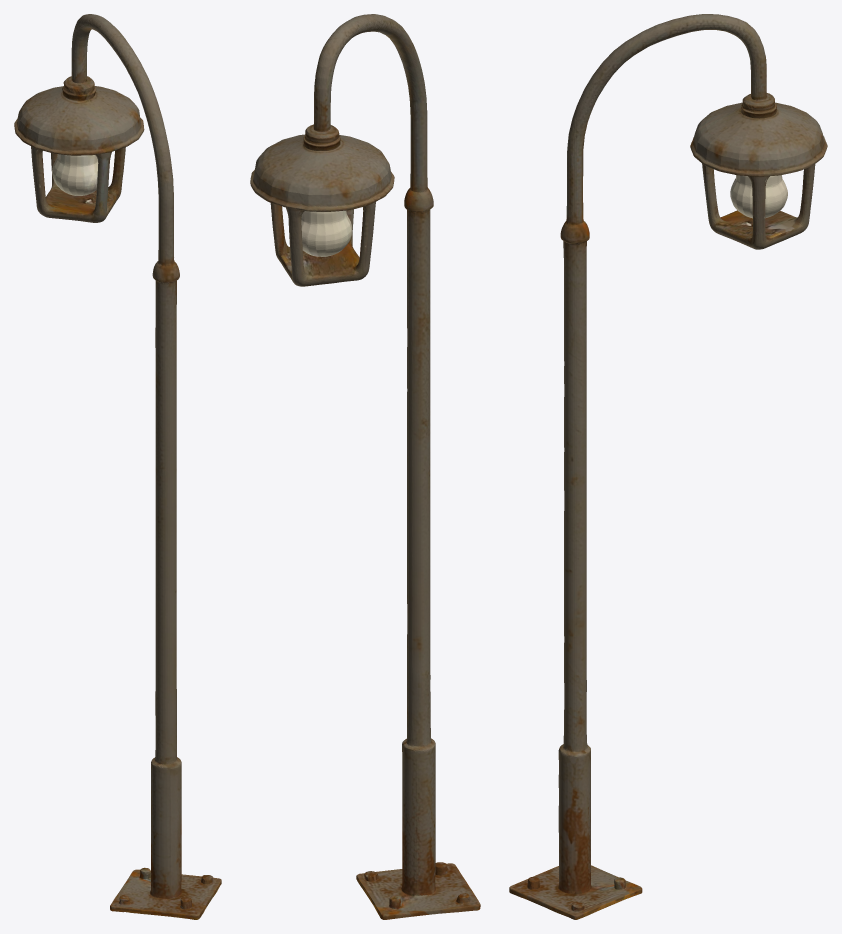
Rendered from tripo_convert_245317bc-98db-408b-9303-bf5041a0ce0f(2).obj.
The picture shows the model from 3 angles, left to right: view 1: azimuth 30°, elevation 25°; view 2: azimuth 150°, elevation 25°; view 3: azimuth 270°, elevation 25°; orthographic projection. The views are drawn at different scales.
Visible parts, largest first — view 1: tripo_node_245317bc-98db-408b-9303-bf5041a0ce0f; view 2: tripo_node_245317bc-98db-408b-9303-bf5041a0ce0f; view 3: tripo_node_245317bc-98db-408b-9303-bf5041a0ce0f.
Boxes of the visible parts, box(x1,y1,x2,y2) form: tripo_node_245317bc-98db-408b-9303-bf5041a0ce0f: box(14, 14, 221, 919); tripo_node_245317bc-98db-408b-9303-bf5041a0ce0f: box(250, 14, 480, 919); tripo_node_245317bc-98db-408b-9303-bf5041a0ce0f: box(509, 14, 827, 919).
Bounding box in the file's own units: 0.142 × 1 × 0.3289.
1 material, 1 textured.
